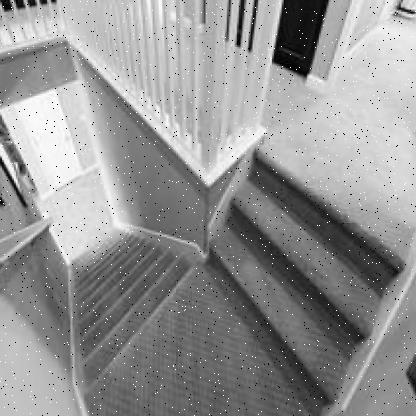stair_down: (65, 228, 200, 370)
